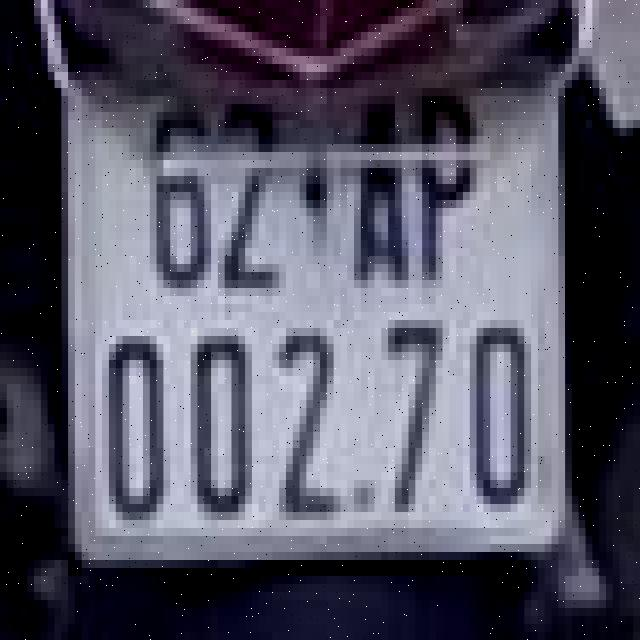0: (92, 312, 180, 536), (456, 304, 545, 520), (181, 324, 262, 540)
2: (265, 316, 361, 524), (211, 92, 286, 300)
6: (146, 92, 222, 292)
7: (378, 308, 453, 532)
A: (351, 100, 418, 292)
P: (412, 76, 487, 300)
